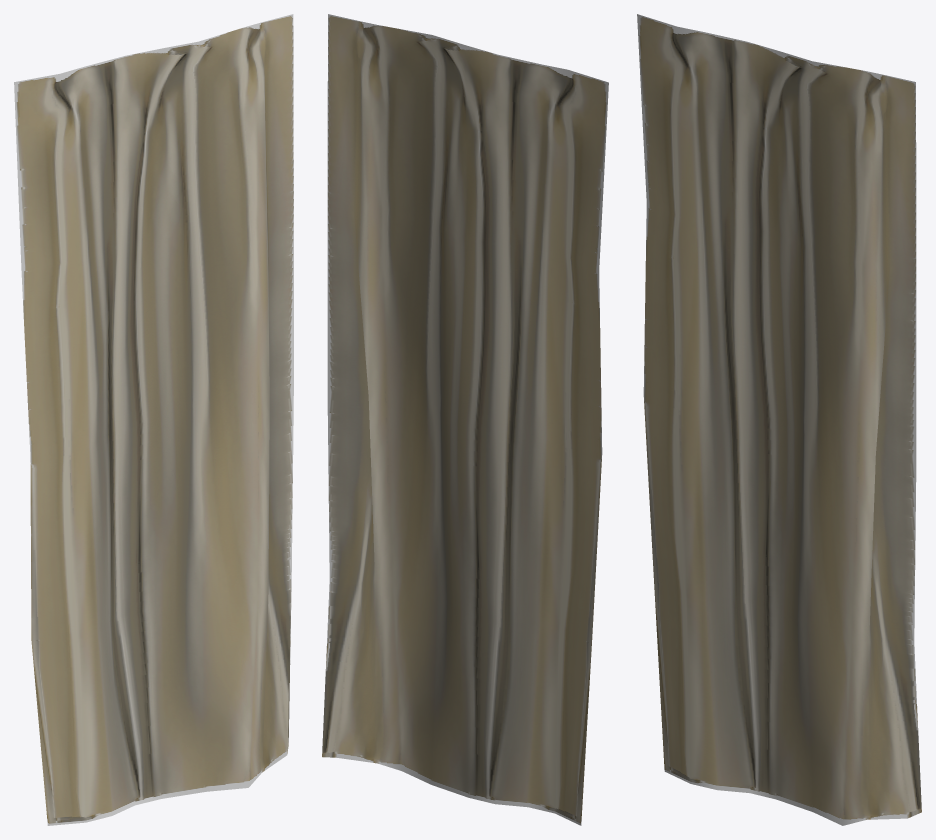
Rendered from Curtain02C.FBX.
3 renders of one model, left to right at view 1: azimuth 30°, elevation 25°; view 2: azimuth 150°, elevation 25°; view 3: azimuth 330°, elevation 25°, orthographic.
Visible parts, largest first — view 1: Curtain02C; view 2: Curtain02C; view 3: Curtain02C.
Boxes of the visible parts, x1=… form: Curtain02C: x1=14, y1=14, x2=293, y2=825; Curtain02C: x1=322, y1=14, x2=608, y2=825; Curtain02C: x1=637, y1=14, x2=921, y2=825.
Size of the model in its own units: 147 by 17.95 by 377.
